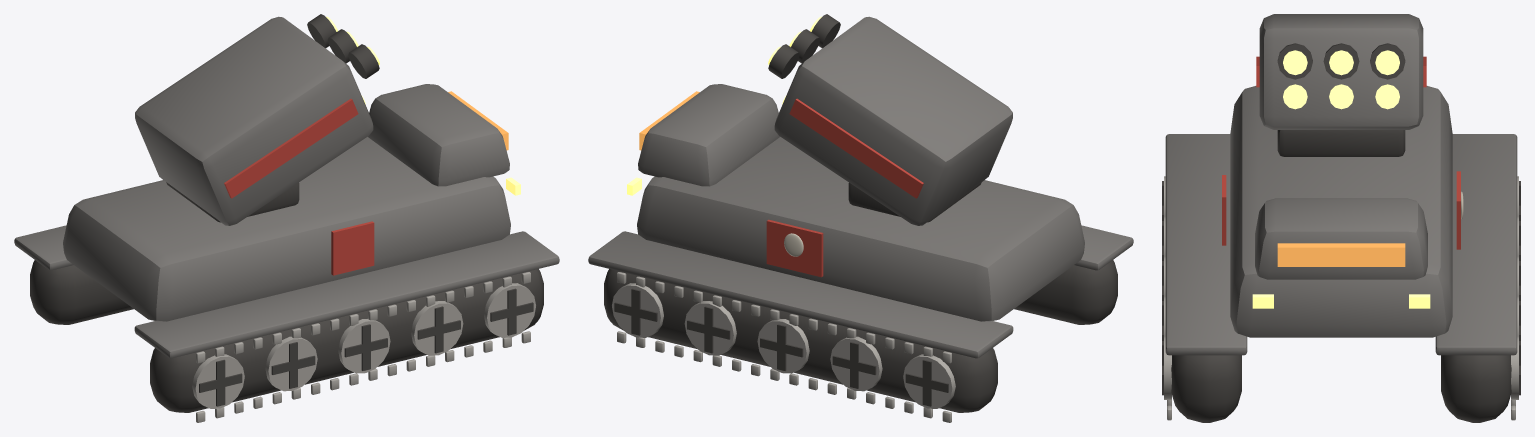
Rendered from hum_artilharia.glb.
3 renders of one model, left to right at view 1: azimuth 30°, elevation 25°; view 2: azimuth 150°, elevation 25°; view 3: azimuth 270°, elevation 25°, orthographic. The views are drawn at different scales.
Parts seen in each view (by area): view 1: hum_artilharia, turret_m, wheel_r0_m, wheel_r3_m, wheel_r4_m, wheel_r1_m, wheel_r2_m, treadb_r_m, treadf_r_m; view 2: hum_artilharia, turret_m, wheel_l0_m, wheel_l3_m, wheel_l4_m, wheel_l1_m, wheel_l2_m, treadb_l_m, treadf_l_m; view 3: hum_artilharia, turret_m, wheel_l4_m, wheel_r4_m.
Part boxes in pixels (x1,y1,x2,y2): hum_artilharia: [14, 84, 559, 412]; turret_m: [135, 14, 379, 225]; wheel_r0_m: [192, 354, 244, 408]; wheel_r3_m: [411, 301, 463, 355]; wheel_r4_m: [484, 283, 535, 337]; wheel_r1_m: [265, 336, 317, 391]; wheel_r2_m: [338, 319, 390, 373]; treadb_r_m: [196, 331, 530, 422]; treadf_r_m: [196, 272, 530, 363]; hum_artilharia: [588, 84, 1133, 412]; turret_m: [768, 14, 1012, 225]; wheel_l0_m: [903, 354, 955, 408]; wheel_l3_m: [684, 301, 736, 355]; wheel_l4_m: [612, 283, 663, 337]; wheel_l1_m: [830, 336, 882, 391]; wheel_l2_m: [757, 319, 809, 373]; treadb_l_m: [617, 331, 951, 422]; treadf_l_m: [617, 272, 951, 363]; hum_artilharia: [1165, 86, 1517, 422]; turret_m: [1256, 14, 1426, 156]; wheel_l4_m: [1511, 336, 1520, 399]; wheel_r4_m: [1162, 336, 1171, 399].
Bounding box in the file's own units: 1.43 × 0.9832 × 1.01.
